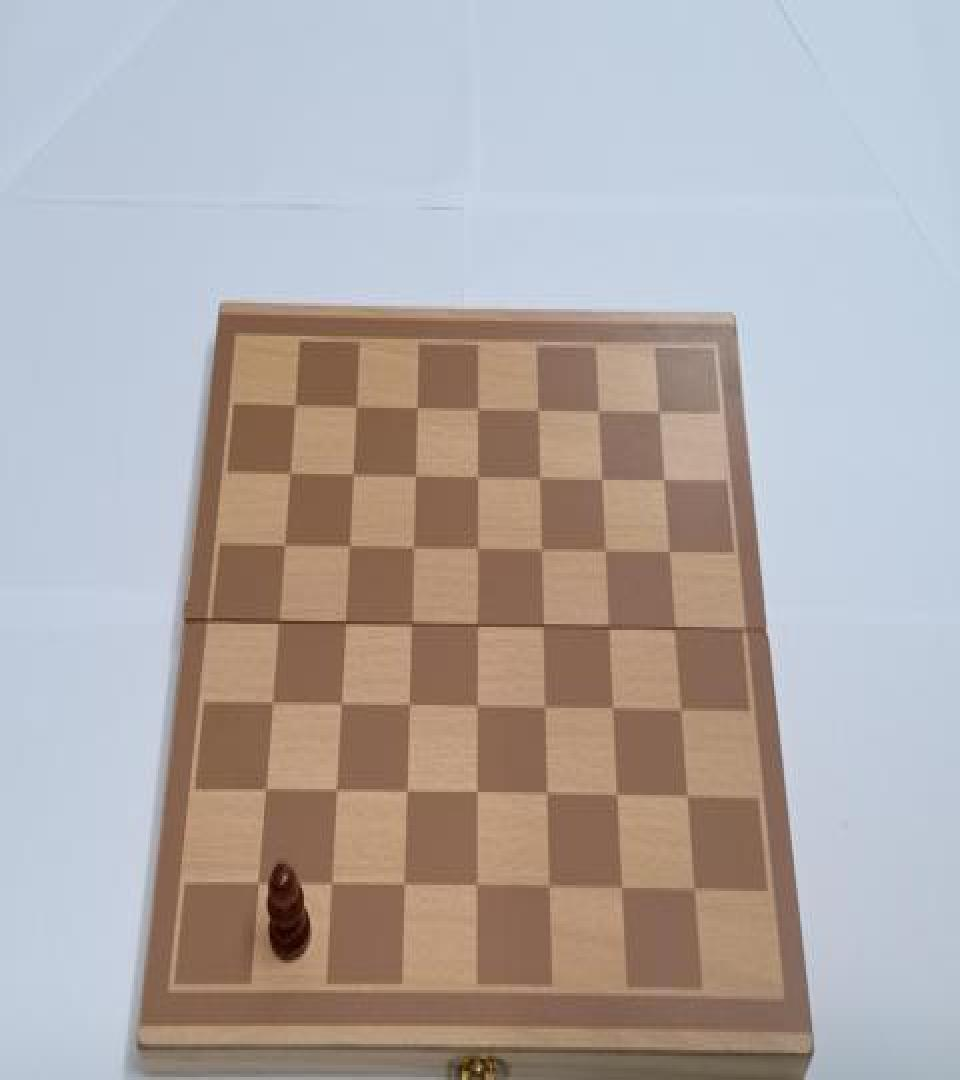xcorner: (467, 694, 485, 722), (530, 466, 548, 494), (535, 694, 553, 722), (592, 466, 610, 494), (287, 396, 305, 423), (270, 610, 288, 637), (256, 777, 274, 804), (249, 868, 267, 895), (347, 396, 365, 423), (335, 612, 353, 639), (331, 693, 349, 720), (326, 778, 344, 805), (321, 870, 339, 897), (407, 397, 425, 424), (405, 465, 423, 492), (403, 537, 421, 564), (401, 612, 419, 639), (399, 693, 417, 720), (396, 778, 414, 805), (468, 397, 486, 424), (468, 465, 486, 492), (467, 537, 485, 564), (466, 780, 484, 807), (528, 397, 546, 424), (531, 538, 549, 565), (539, 873, 557, 900), (589, 399, 607, 426), (596, 538, 614, 565), (599, 615, 617, 642), (603, 696, 621, 723), (607, 783, 625, 810), (611, 874, 629, 901), (650, 399, 668, 426), (655, 468, 673, 495), (660, 540, 678, 567), (665, 617, 683, 644), (678, 783, 696, 810), (684, 876, 702, 903), (281, 464, 299, 490), (276, 536, 294, 562), (263, 692, 281, 718), (343, 464, 361, 490), (340, 536, 358, 562), (394, 872, 412, 898), (467, 614, 485, 640), (466, 872, 484, 898), (533, 614, 551, 640), (537, 782, 555, 808), (671, 698, 689, 724)
